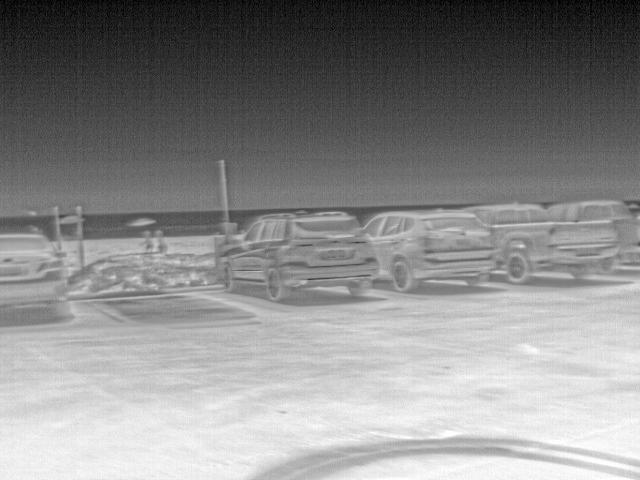car: (219, 210, 381, 302), (458, 202, 621, 283), (363, 208, 498, 293), (545, 198, 640, 274), (1, 230, 72, 317)
person: (140, 229, 154, 251), (156, 230, 169, 253)
